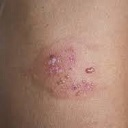Psoriasis: (40, 50, 97, 95)
